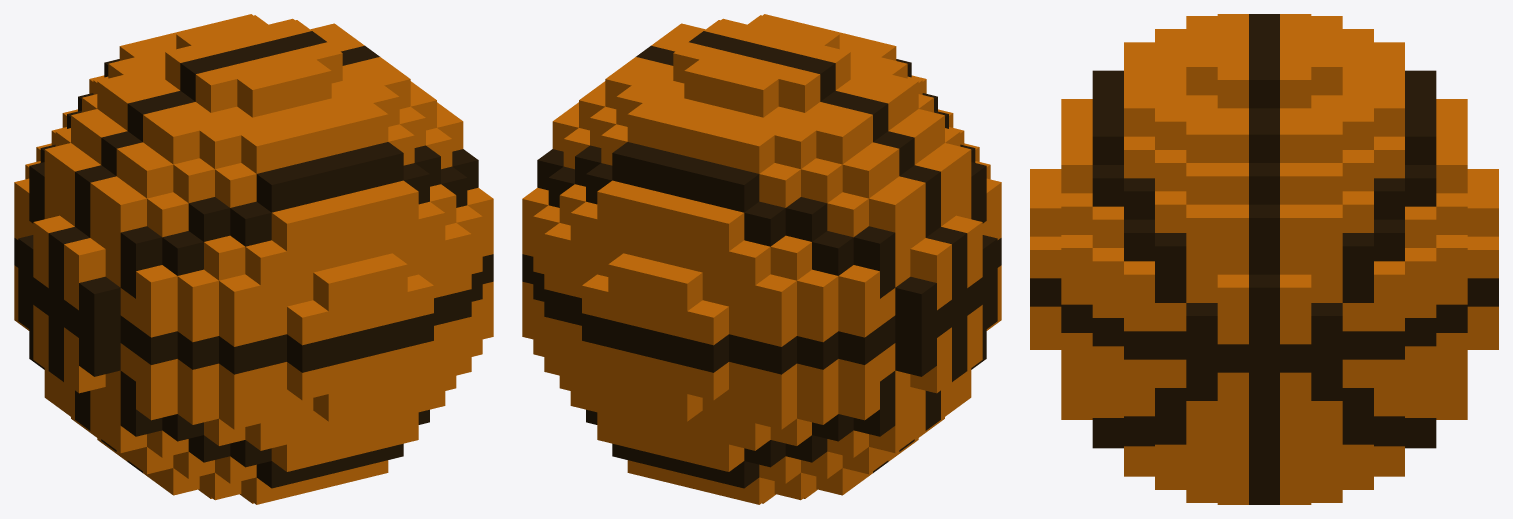
Rendered from Basketball.fbx.
3 views of the same model, side by side, from view 1: azimuth 30°, elevation 25°; view 2: azimuth 150°, elevation 25°; view 3: azimuth 270°, elevation 25° (orthographic). The views are drawn at different scales.
Parts seen in each view (by area): view 1: Untitled; view 2: Untitled; view 3: Untitled.
Part boxes in pixels (<box>): Untitled: <box>14,14,493,504</box>; Untitled: <box>522,14,1001,504</box>; Untitled: <box>1030,14,1498,504</box>.
Size of the model in its own units: 150 by 150 by 150.
